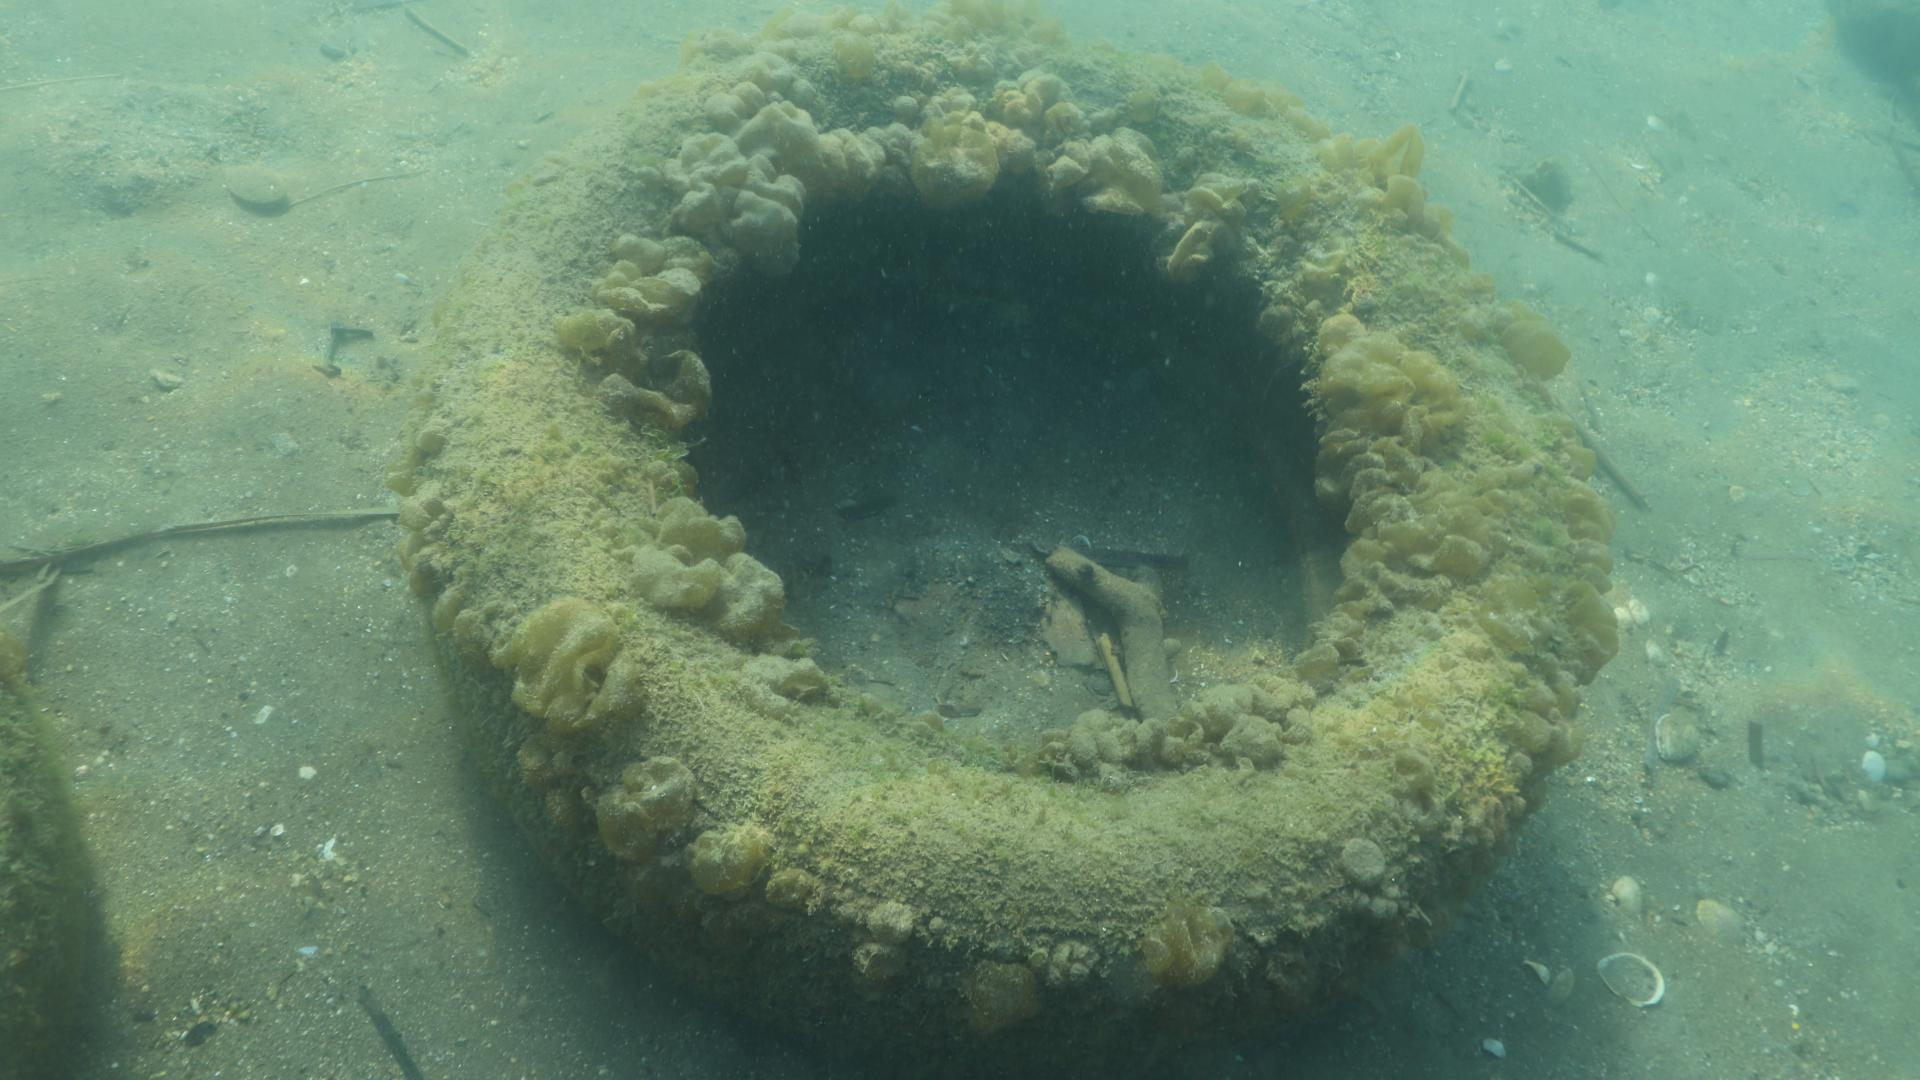tire: (435, 25, 1593, 1048)
